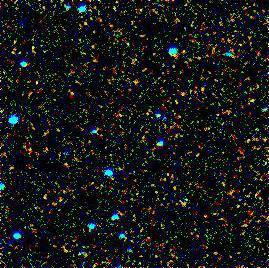star: (172, 35, 202, 65)
